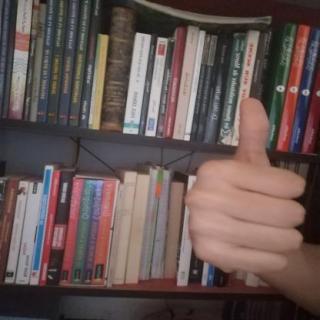ALIF: (175, 91, 313, 278)
